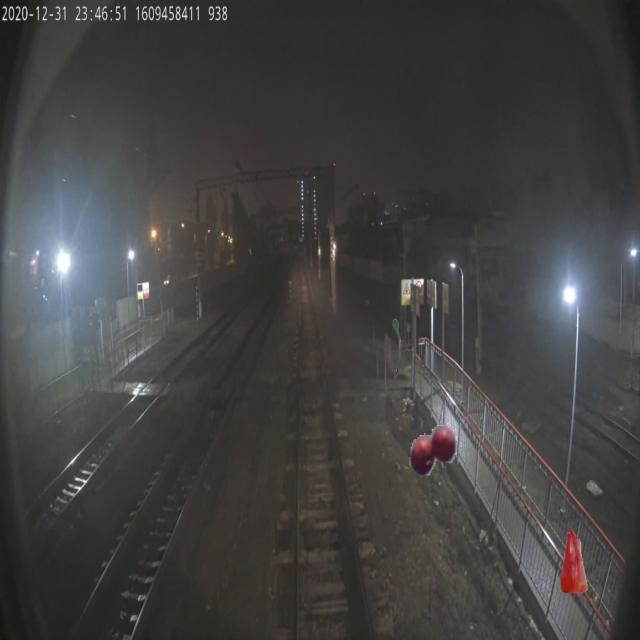balloon: (408, 415, 458, 479)
floating object: (393, 318, 402, 382)
plastic bag: (560, 529, 588, 593)
